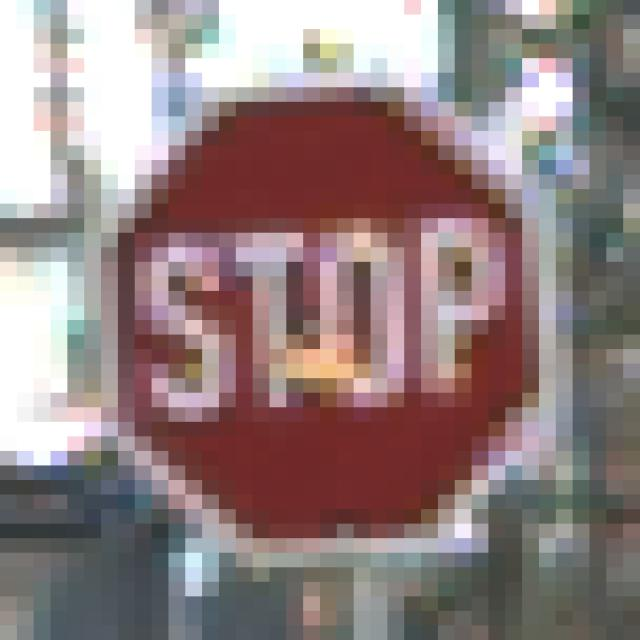STOP: (85, 74, 557, 568)
